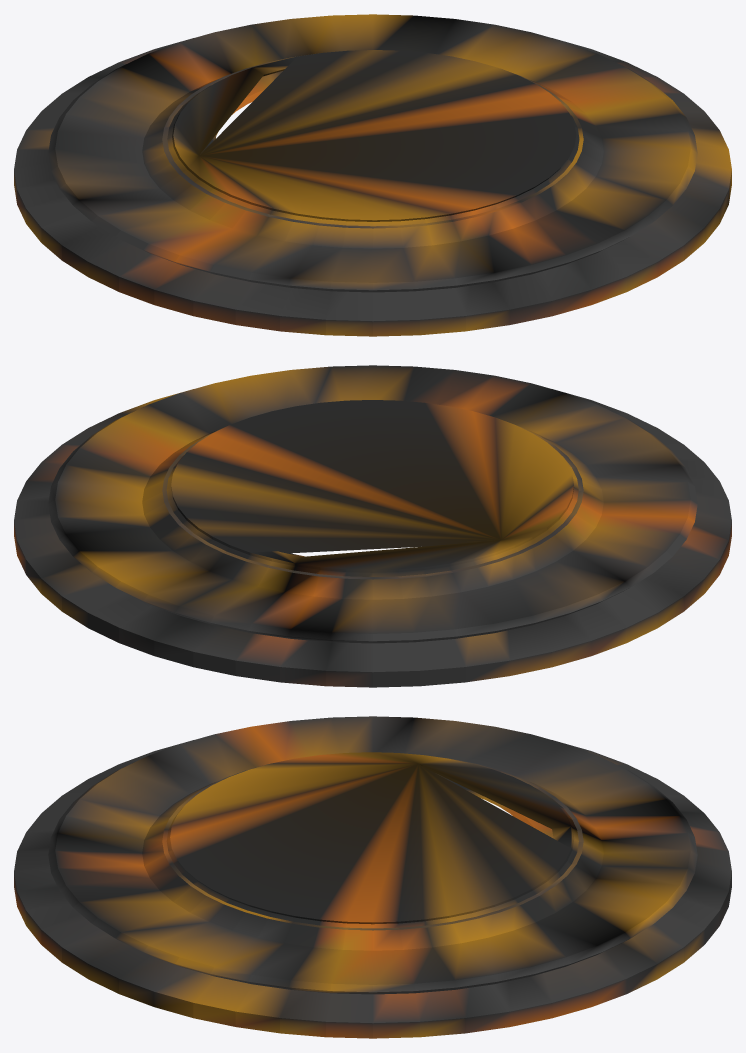
Rendered from BigDisc.fbx.
3 renders of one model, top to bottom at view 1: azimuth 30°, elevation 25°; view 2: azimuth 150°, elevation 25°; view 3: azimuth 270°, elevation 25°, orthographic.
Parts seen in each view (by area): view 1: Platform, Platform.002, Platform.003; view 2: Platform, Platform.002, Platform.003; view 3: Platform, Platform.002, Platform.003.
Boxes of the visible parts, x1=… form: Platform: x1=14, y1=14, x2=731, y2=321; Platform.002: x1=173, y1=50, x2=576, y2=220; Platform.003: x1=14, y1=171, x2=731, y2=336; Platform: x1=14, y1=365, x2=731, y2=672; Platform.002: x1=171, y1=400, x2=573, y2=569; Platform.003: x1=14, y1=522, x2=731, y2=687; Platform: x1=14, y1=716, x2=731, y2=1023; Platform.002: x1=170, y1=752, x2=572, y2=922; Platform.003: x1=14, y1=873, x2=731, y2=1038.
Size of the model in its own units: 1516 by 121 by 1516.
